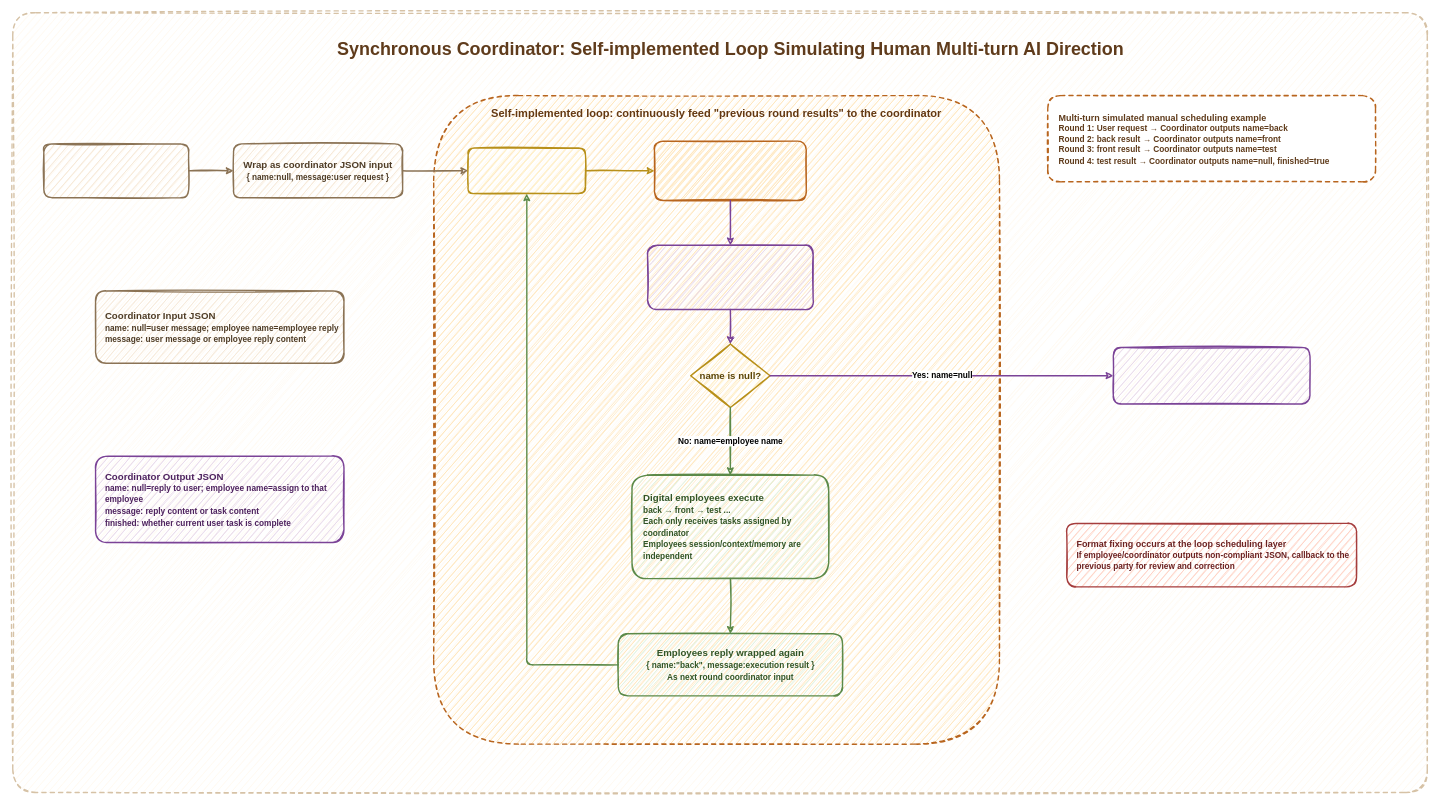
Some shapes in this 1439 by 805 pixel diagram are drawn without their labels. The shapes that lost their labels are listed below. From the top down, each one's centre as x and y in pixels, then its label:
At point 116,170: "User submits natural language request".
At point 526,170: "Current Round Input input JSON".
At point 730,170: "Synchronous Coordinator Identify requirements / Plan tasks / Coordinate context".
At point 730,277: "Current Round Output output JSON Next round message (delegation or task end)".
At point 1211,375: "Reply to user and end { name:null, message:summary, finished:true }".
